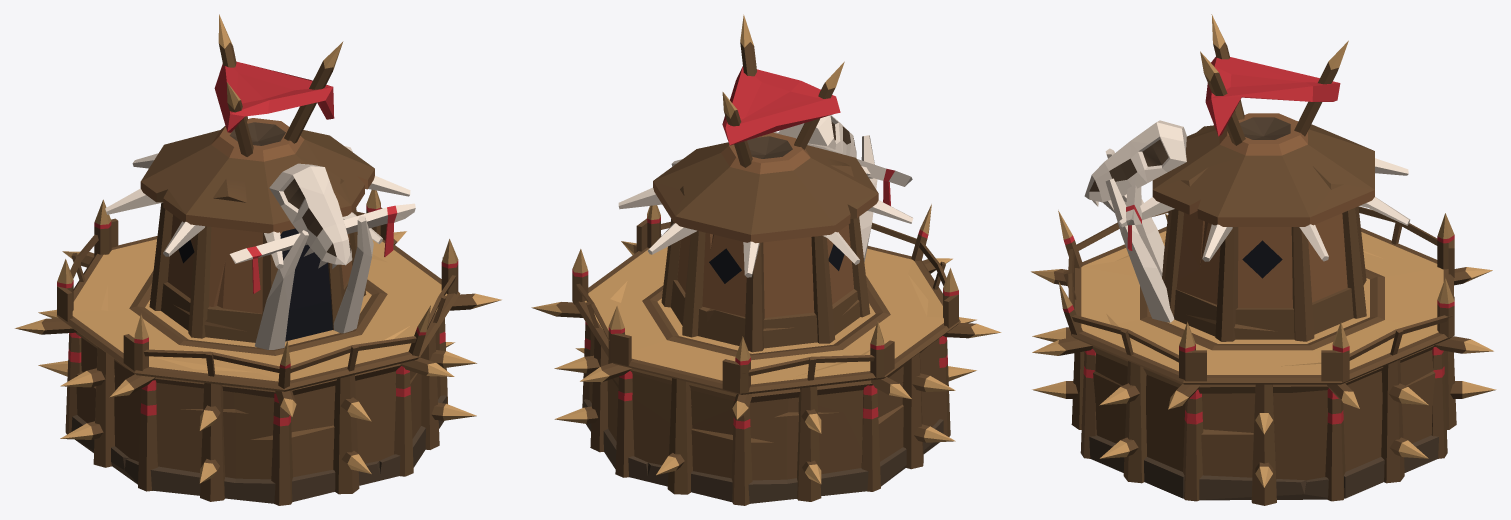
File: tribal-tower-tribal-tier3.glb
The picture shows the model from 3 angles, left to right: view 1: azimuth 30°, elevation 25°; view 2: azimuth 150°, elevation 25°; view 3: azimuth 270°, elevation 25°; orthographic projection. The views are drawn at different scales.
Parts seen in each view (by area): view 1: SM_Tower_Tribal_Tier3; view 2: SM_Tower_Tribal_Tier3; view 3: SM_Tower_Tribal_Tier3.
Boxes of the visible parts, x1,y1,x2,y2 form: SM_Tower_Tribal_Tier3: [15, 14, 501, 505]; SM_Tower_Tribal_Tier3: [531, 14, 1001, 505]; SM_Tower_Tribal_Tier3: [1031, 14, 1496, 505].
Size of the model in its own units: 12.14 by 11.54 by 12.18.
